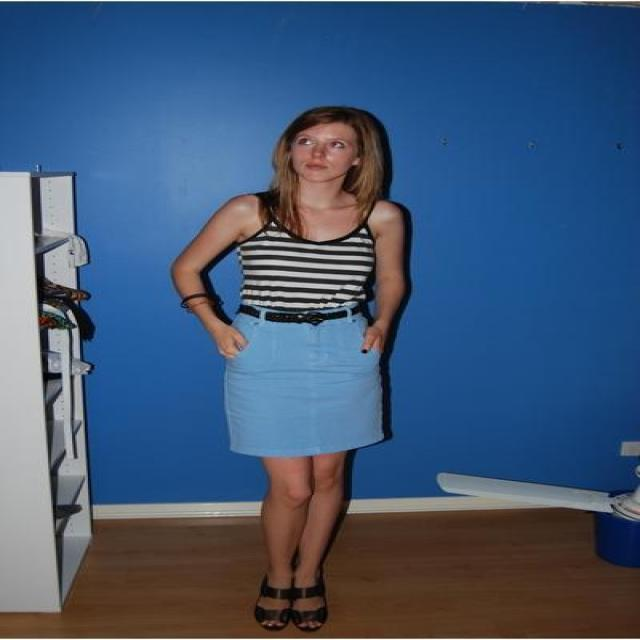shirt: (211, 211, 397, 317)
shoe: (254, 579, 332, 626)
skirt: (224, 302, 382, 456)
